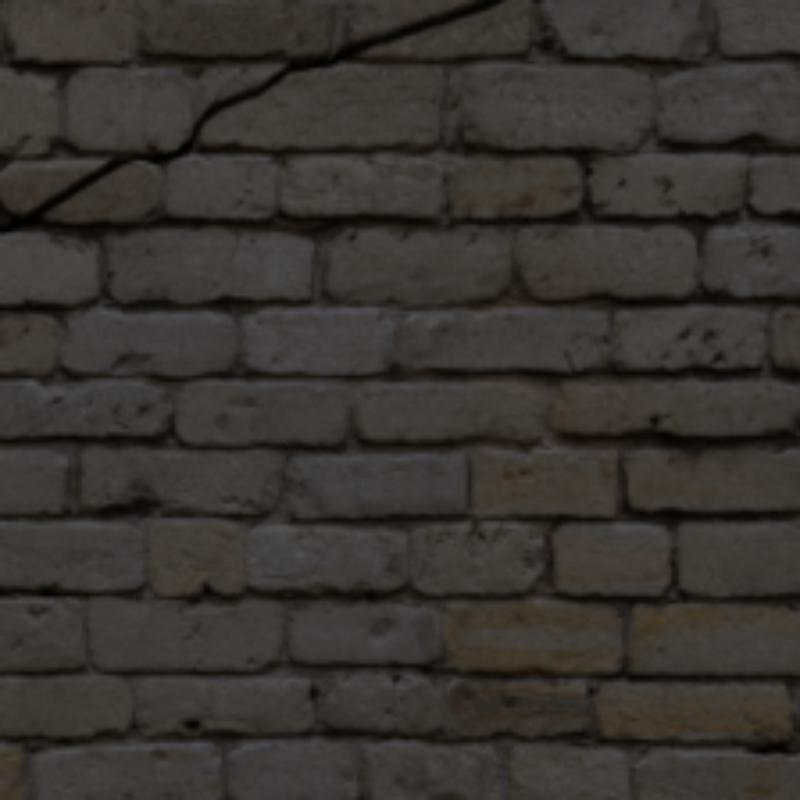pothole: (0, 0, 500, 229)
